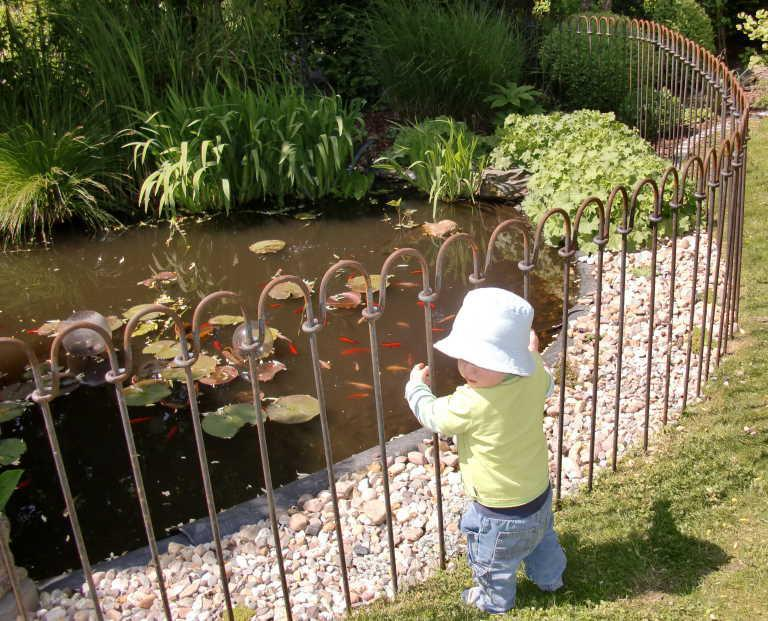child: (400, 286, 588, 611)
